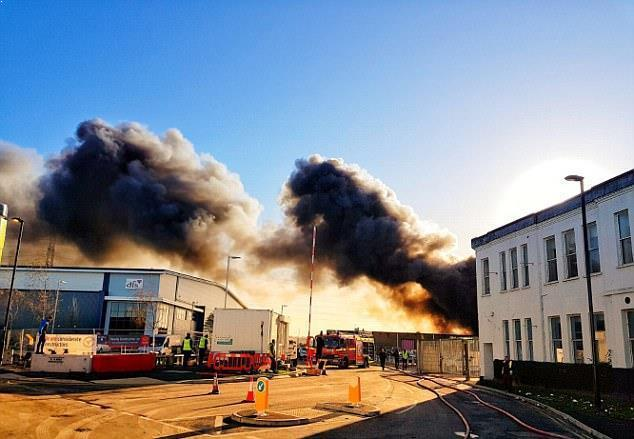smoke: (64, 167, 217, 228)
